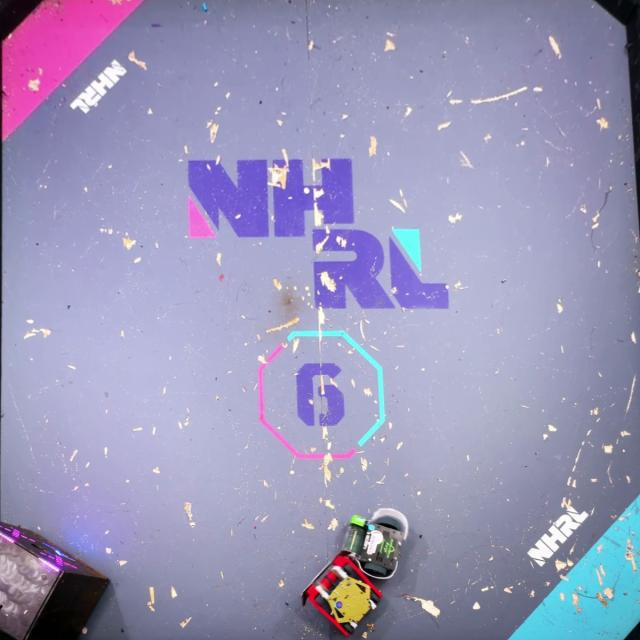housebot: (0, 520, 112, 640)
robot: (302, 553, 386, 640), (342, 508, 410, 579)
